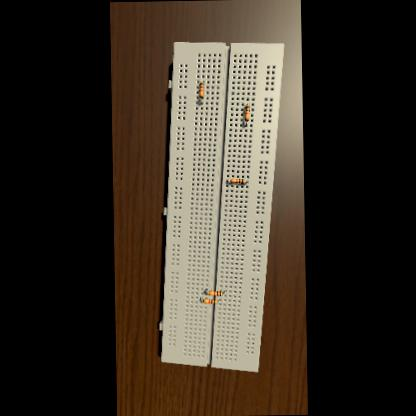breadboard: (153, 40, 289, 374)
resistor: (198, 82, 204, 98), (244, 104, 249, 120), (208, 290, 221, 296), (203, 298, 216, 304), (230, 178, 244, 183)
wire: (222, 290, 225, 294), (200, 98, 202, 104), (244, 121, 246, 126), (206, 289, 208, 293), (216, 300, 219, 302), (246, 102, 248, 104), (200, 298, 202, 300), (226, 180, 229, 181), (244, 181, 246, 182), (202, 79, 202, 81)
